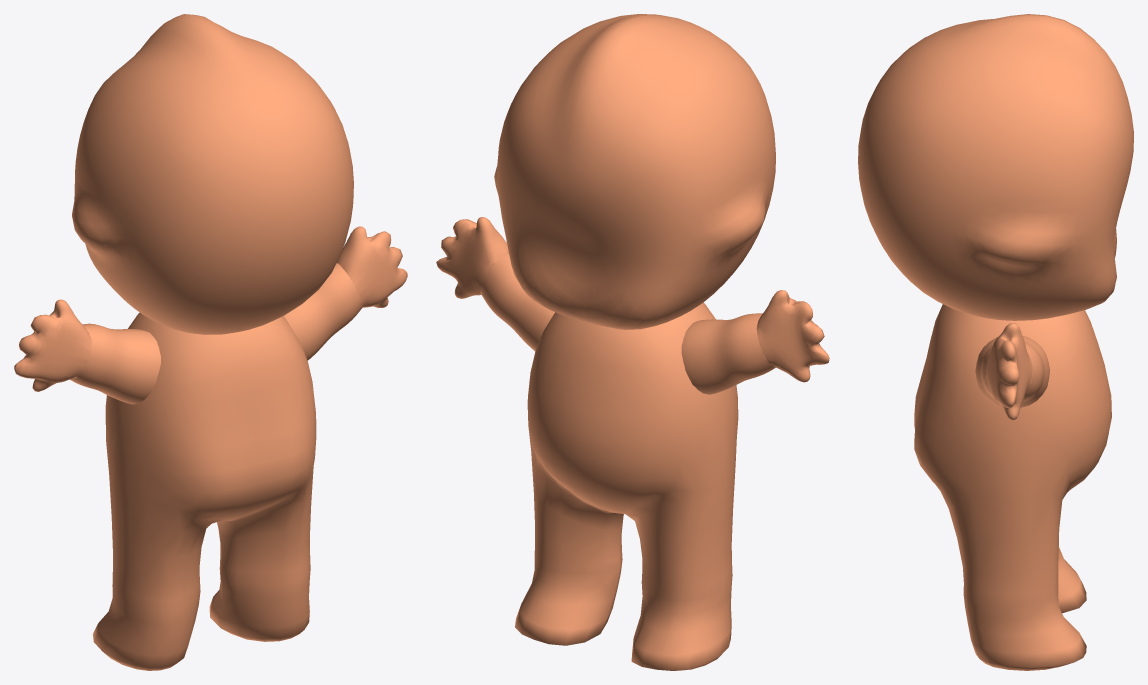
Rendered from kewpie.glb.
The picture shows the model from 3 angles, left to right: view 1: azimuth 30°, elevation 25°; view 2: azimuth 150°, elevation 25°; view 3: azimuth 270°, elevation 25°; orthographic projection.
Visible parts, largest first — view 1: Head Remeshed, Body, Arms Remeshed; view 2: Head Remeshed, Body, Arms Remeshed; view 3: Head Remeshed, Body, Arms Remeshed.
Boxes of the visible parts, x1,y1,x2,y2 form: Head Remeshed: (72, 14, 353, 334); Body: (93, 312, 316, 670); Arms Remeshed: (14, 226, 407, 404); Head Remeshed: (494, 14, 775, 329); Body: (515, 302, 738, 670); Arms Remeshed: (436, 217, 829, 394); Head Remeshed: (858, 14, 1133, 320); Body: (914, 304, 1111, 670); Arms Remeshed: (975, 323, 1049, 420).
Bounding box in the file's own units: 3.34 × 5.03 × 2.04.
